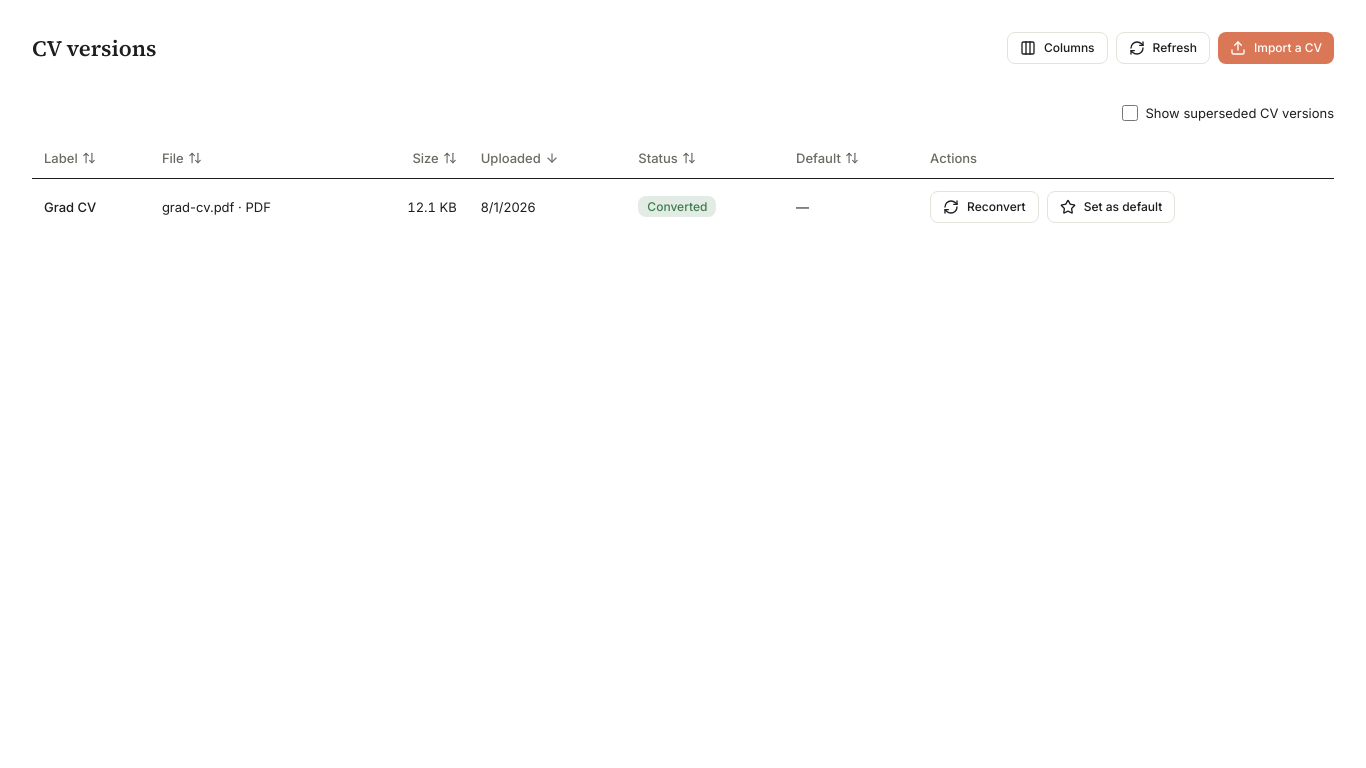
it: CvVersionsPage — list › opens the CV panel on row click, fetching the Markdown rendition only once open (issue #81)
This screenshot has width=1366, height=768.
Click the text "Grad CV": coordinates (91, 206) [32,178,150,235]
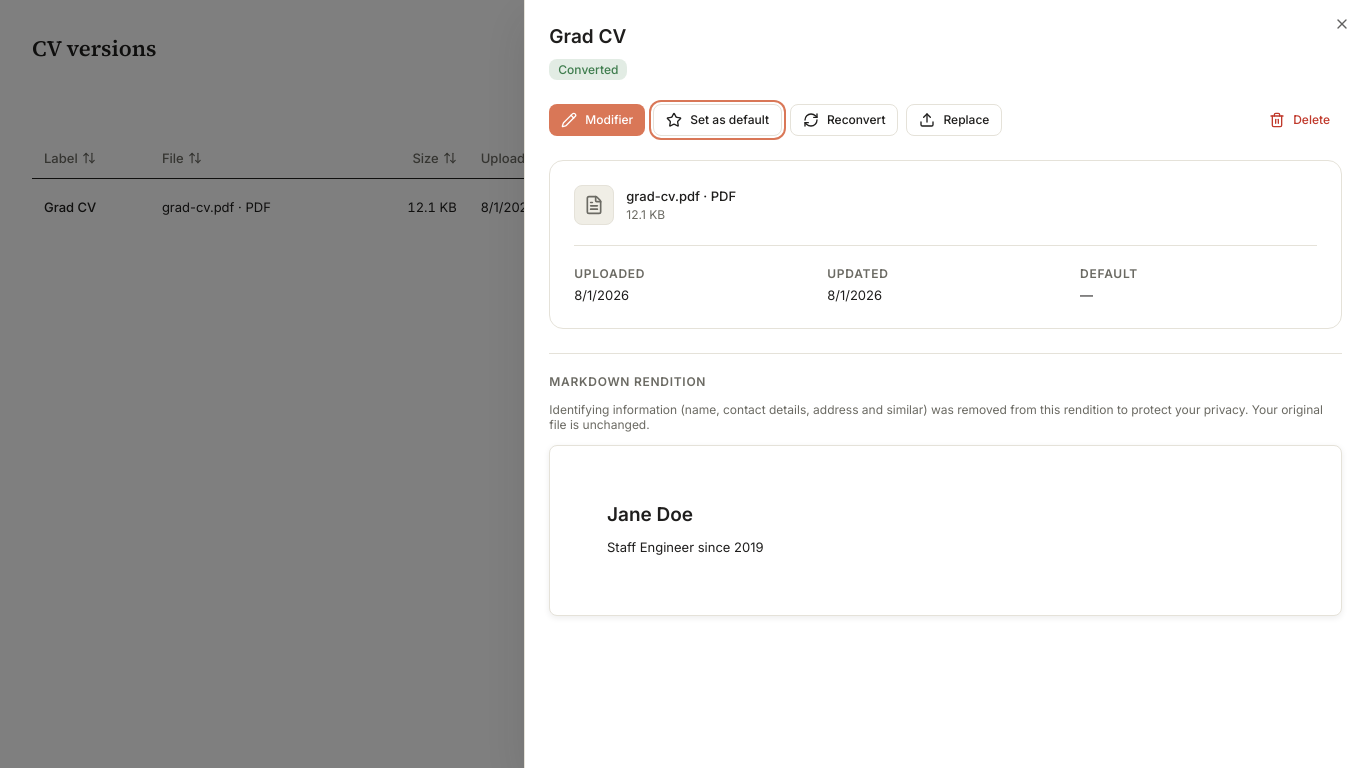
Result: the text "Staff Engineer since 2019" is shown at [607,539,764,555]
